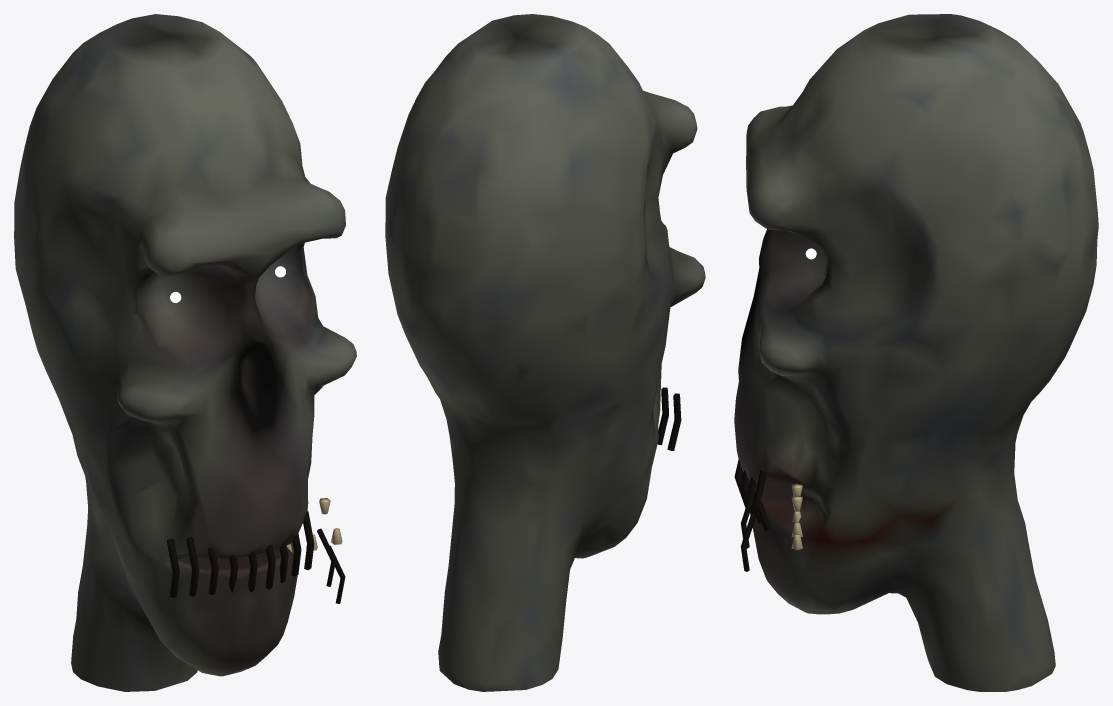
File: hollow_head.glb
3 views of the same model, side by side, from view 1: azimuth 30°, elevation 25°; view 2: azimuth 150°, elevation 25°; view 3: azimuth 270°, elevation 25° (orthographic). The views are drawn at different scales.
Parts seen in each view (by area): view 1: hollow_head; view 2: hollow_head; view 3: hollow_head.
Part boxes in pixels (box(x1,y1,x2,y2)): hollow_head: box(14, 14, 356, 691); hollow_head: box(385, 14, 705, 691); hollow_head: box(734, 14, 1098, 691).
Bounding box in the file's own units: 0.1618 × 0.4032 × 0.2101.
